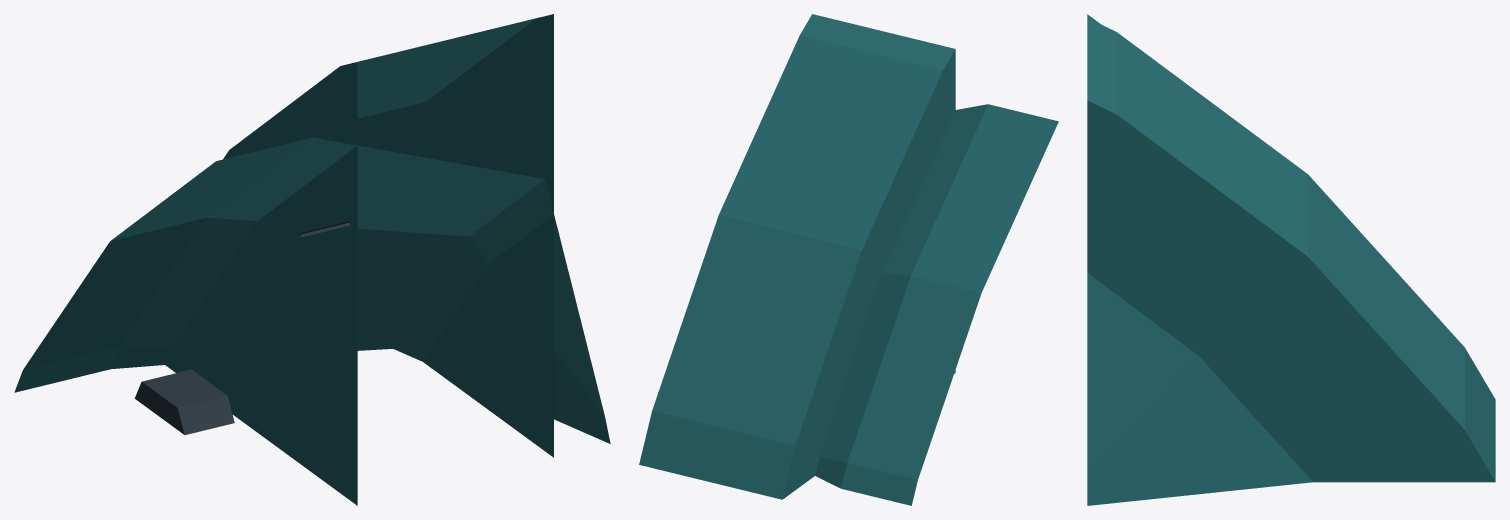
Rendered from cell_44.obj.
3 renders of one model, left to right at view 1: azimuth 30°, elevation 25°; view 2: azimuth 150°, elevation 25°; view 3: azimuth 270°, elevation 25°, orthographic. The views are drawn at different scales.
Size of the model in its own units: 0.2921 by 0.3141 by 0.3044.
